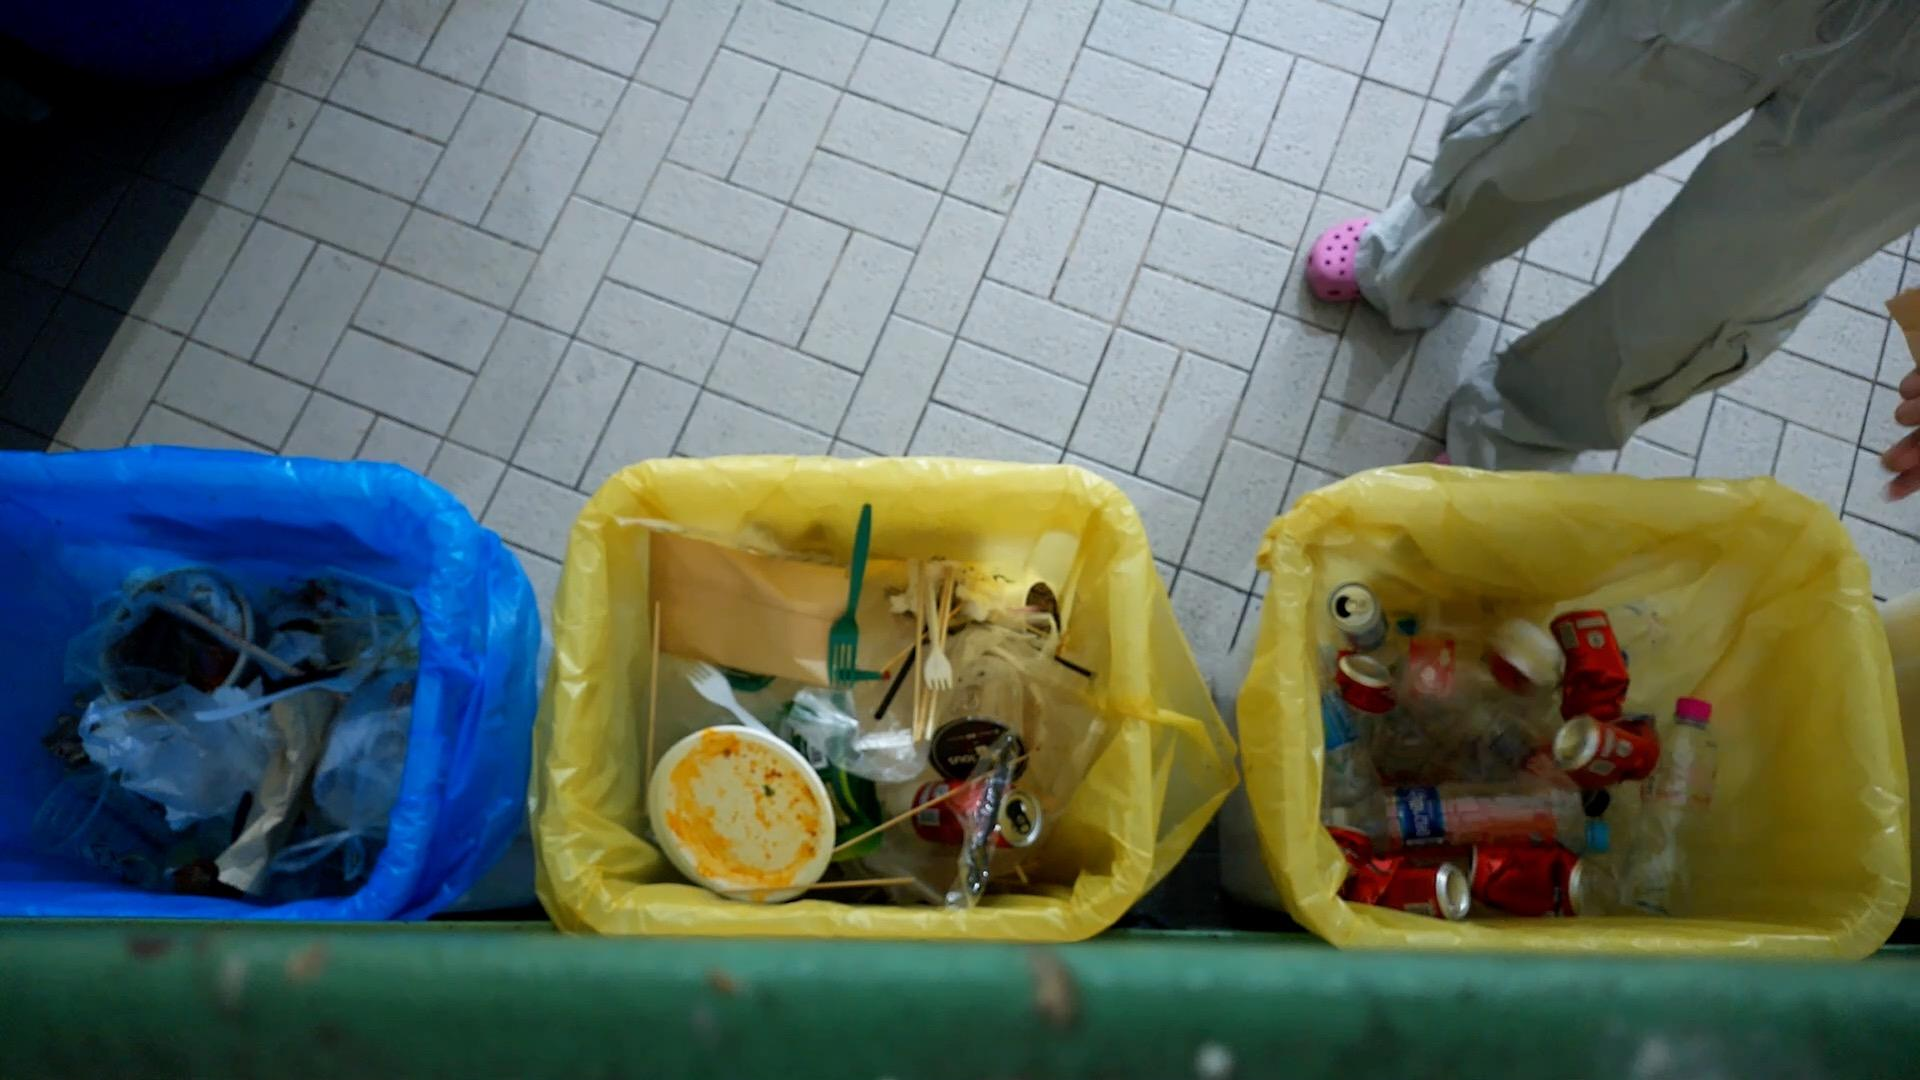can: (1332, 823, 1473, 920), (1465, 828, 1590, 915), (1548, 612, 1631, 720), (1551, 717, 1662, 782), (1480, 621, 1568, 694), (1329, 582, 1389, 655)
dirty food container: (644, 724, 833, 907)
filled plastic bag: (273, 705, 417, 882)
paper bag: (644, 530, 913, 684), (219, 679, 340, 885)
plastic bottle: (1335, 760, 1597, 847), (1622, 698, 1720, 913)
plastic cup: (926, 651, 1031, 793)
plastic cutlery: (191, 658, 371, 727), (959, 741, 1014, 914), (823, 501, 873, 691), (679, 657, 770, 731), (926, 566, 959, 695)
sticks: (831, 742, 1043, 861), (156, 592, 307, 686), (914, 560, 959, 741), (638, 595, 669, 778), (712, 874, 914, 901), (911, 562, 928, 744)
